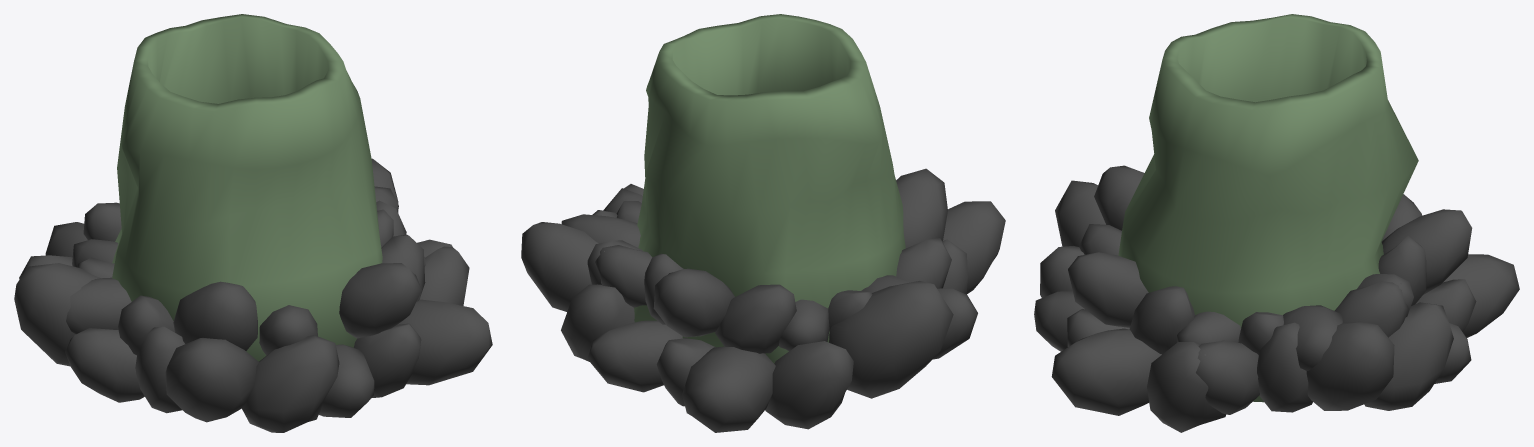
The model's file is vespene.fbx.
The picture shows the model from 3 angles, left to right: view 1: azimuth 30°, elevation 25°; view 2: azimuth 150°, elevation 25°; view 3: azimuth 270°, elevation 25°; orthographic projection. The views are drawn at different scales.
Parts seen in each view (by area): view 1: Cylinder, Icosphere.032; view 2: Icosphere.032, Cylinder; view 3: Cylinder, Icosphere.032.
Part boxes in pixels (x1,y1,x2,y2): Cylinder: (112, 14, 382, 361); Icosphere.032: (14, 158, 492, 432); Icosphere.032: (521, 168, 1005, 432); Cylinder: (634, 14, 905, 363); Cylinder: (1118, 14, 1418, 402); Icosphere.032: (1034, 165, 1519, 432).
Bounding box in the file's own units: 128 × 94.5 × 132.
